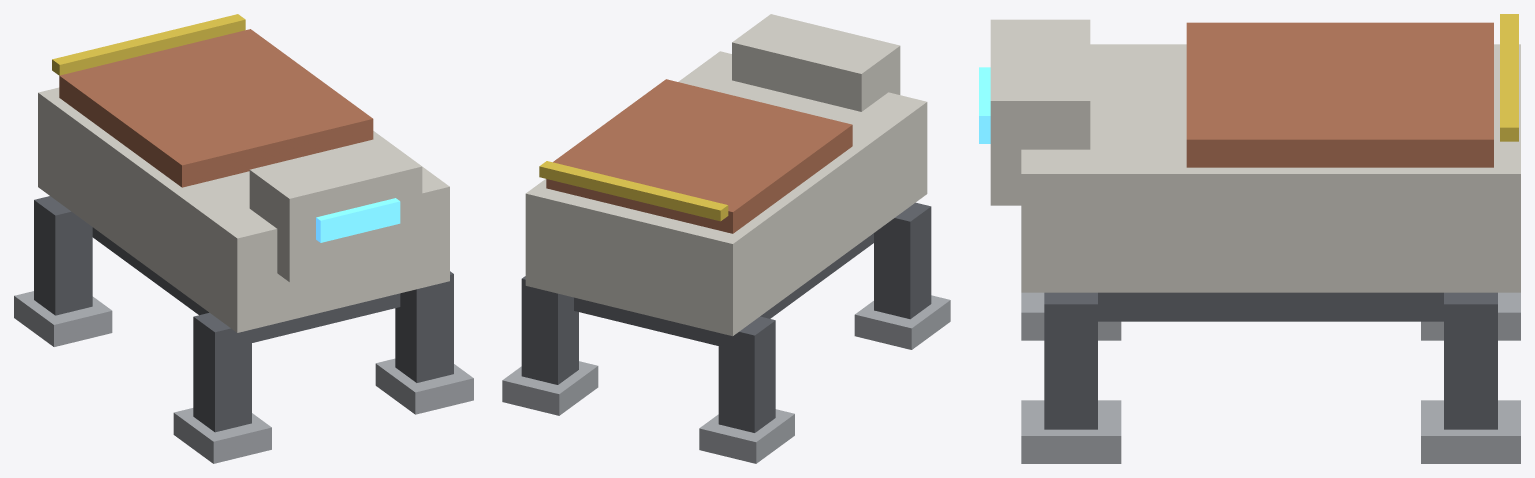
File: MULE3.glb
3 views of the same model, side by side, from view 1: azimuth 30°, elevation 25°; view 2: azimuth 150°, elevation 25°; view 3: azimuth 270°, elevation 25° (orthographic). The views are drawn at different scales.
Visible parts, largest first — view 1: MULE3; view 2: MULE3; view 3: MULE3.
Boxes of the visible parts, x1,y1,x2,y2 form: MULE3: (14,14,473,463); MULE3: (502,14,950,463); MULE3: (979,14,1520,463).
Size of the model in its own units: 0.98 by 0.93 by 1.41.
